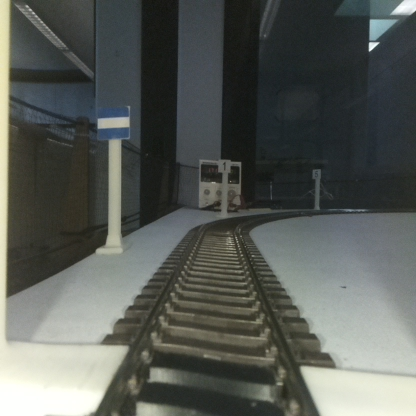start: (97, 106, 130, 252)
white-info-1: (219, 159, 230, 217)
